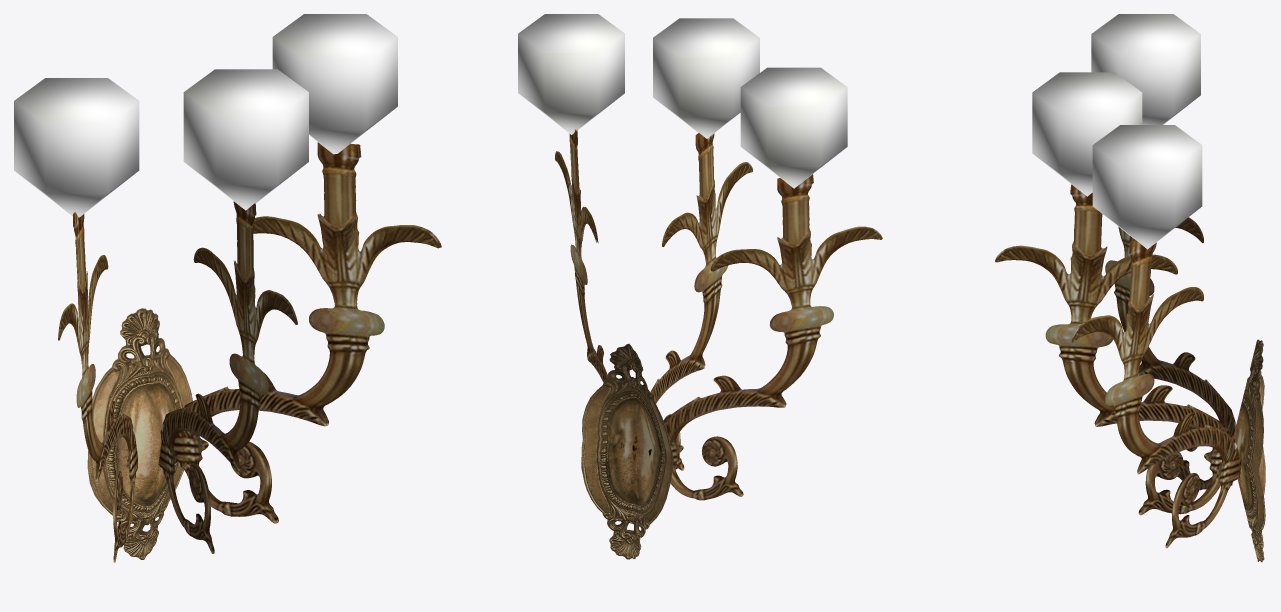
The model's file is Lamp-wall2.fbx.
3 renders of one model, left to right at view 1: azimuth 30°, elevation 25°; view 2: azimuth 150°, elevation 25°; view 3: azimuth 270°, elevation 25°, orthographic. The views are drawn at different scales.
Parts seen in each view (by area): view 1: Lamp-wall2; view 2: Lamp-wall2; view 3: Lamp-wall2.
Part boxes in pixels (x1,y1,x2,y2): Lamp-wall2: (14,14,441,562); Lamp-wall2: (518,14,882,559); Lamp-wall2: (995,14,1265,562).
Bounding box in the file's own units: 70.03 × 86.61 × 48.56.
